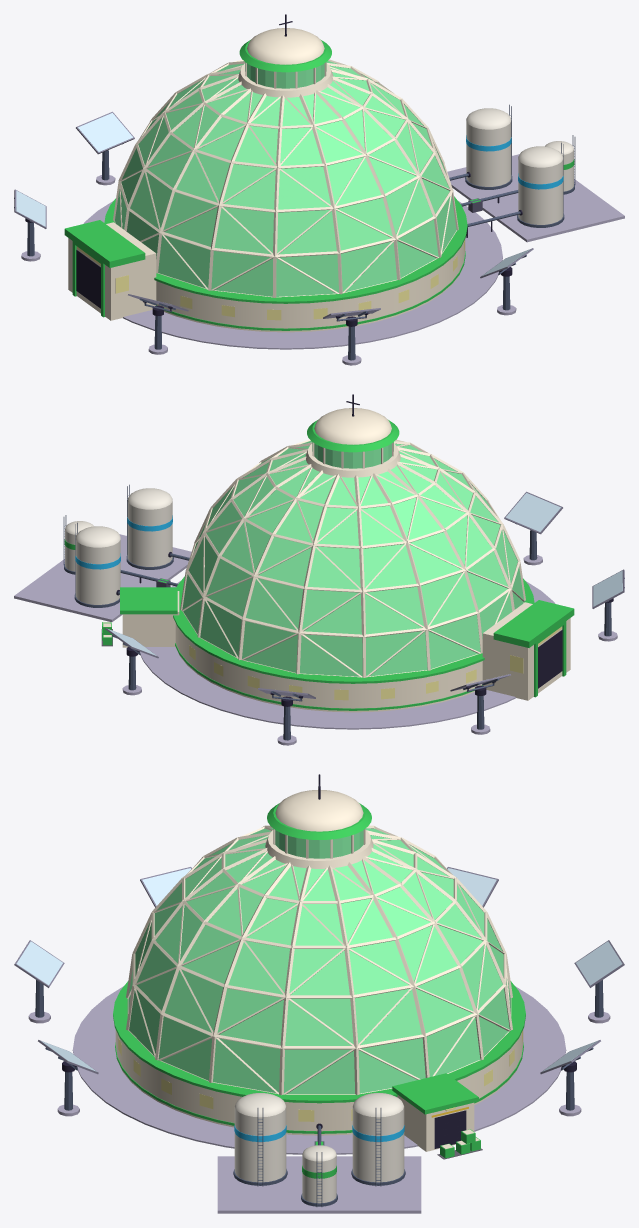
File: hydroponics.glb
3 views of the same model, one above another, from view 1: azimuth 30°, elevation 25°; view 2: azimuth 150°, elevation 25°; view 3: azimuth 270°, elevation 25° (orthographic). The views are drawn at different scales.
Visible parts, largest first — view 1: hydro_glass_12, hydro_wall_40, hydro_wall_43, hydro_concrete_0, hydro_tank_37, hydro_wall_39, hydro_concrete_2, hydro_wall_41, hydro_green_18, hydro_green_19, hydro_mirror_26, hydro_steel_35 (+8 smaller); view 2: hydro_glass_12, hydro_wall_40, hydro_wall_43, hydro_concrete_0, hydro_tank_37, hydro_wall_39, hydro_concrete_2, hydro_wall_41, hydro_green_18, hydro_green_19, hydro_mirror_26, hydro_wall_42 (+10 smaller); view 3: hydro_glass_12, hydro_wall_40, hydro_concrete_0, hydro_tank_37, hydro_concrete_2, hydro_wall_43, hydro_wall_39, hydro_green_18, hydro_mirror_26, hydro_wall_41, hydro_green_17, hydro_steel_35 (+9 smaller).
Boxes of the visible parts, <box> form: hydro_glass_12: <box>115,61,456,296</box>; hydro_wall_40: <box>113,59,458,297</box>; hydro_wall_43: <box>68,222,465,332</box>; hydro_concrete_0: <box>83,201,502,349</box>; hydro_tank_37: <box>466,108,573,224</box>; hydro_wall_39: <box>119,65,451,293</box>; hydro_concrete_2: <box>447,154,624,242</box>; hydro_wall_41: <box>238,28,333,97</box>; hydro_green_18: <box>104,196,467,303</box>; hydro_green_19: <box>64,39,331,267</box>; hydro_mirror_26: <box>16,113,530,275</box>; hydro_steel_35: <box>27,150,574,360</box>; hydro_glass_12: <box>182,441,523,676</box>; hydro_wall_40: <box>180,439,525,677</box>; hydro_wall_43: <box>175,602,570,712</box>; hydro_concrete_0: <box>140,581,555,729</box>; hydro_tank_37: <box>65,488,172,604</box>; hydro_wall_39: <box>182,442,524,677</box>; hydro_concrete_2: <box>14,534,191,622</box>; hydro_wall_41: <box>305,408,400,477</box>; hydro_green_18: <box>173,576,534,683</box>; hydro_green_19: <box>307,419,574,647</box>; hydro_mirror_26: <box>108,493,622,655</box>; hydro_wall_42: <box>122,591,179,647</box>; hydro_glass_12: <box>128,828,510,1093</box>; hydro_wall_40: <box>126,825,512,1095</box>; hydro_concrete_0: <box>72,986,566,1154</box>; hydro_tank_37: <box>234,1093,404,1203</box>; hydro_concrete_2: <box>217,1156,421,1213</box>; hydro_wall_43: <box>115,1030,523,1135</box>; hydro_wall_39: <box>127,827,510,1094</box>; hydro_green_18: <box>113,981,525,1103</box>; hydro_mirror_26: <box>16,868,622,1071</box>; hydro_wall_41: <box>265,790,373,868</box>; hydro_green_17: <box>392,1073,478,1114</box>; hydro_steel_35: <box>35,980,603,1206</box>.
Size of the model in its own units: 62.27 by 28.43 by 56.97.
